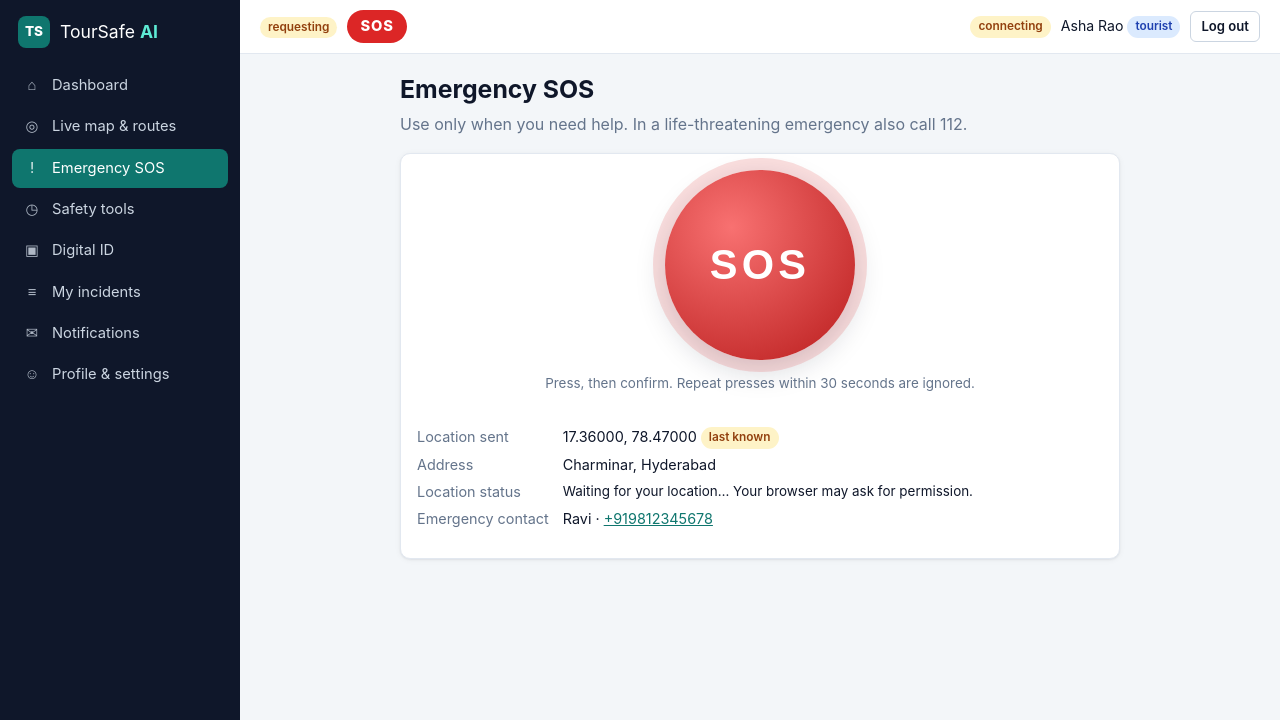
it: SOS › reports duplicate presses honestly
Click the button "SOS". click: (760, 264)
box: [665,170,855,360]
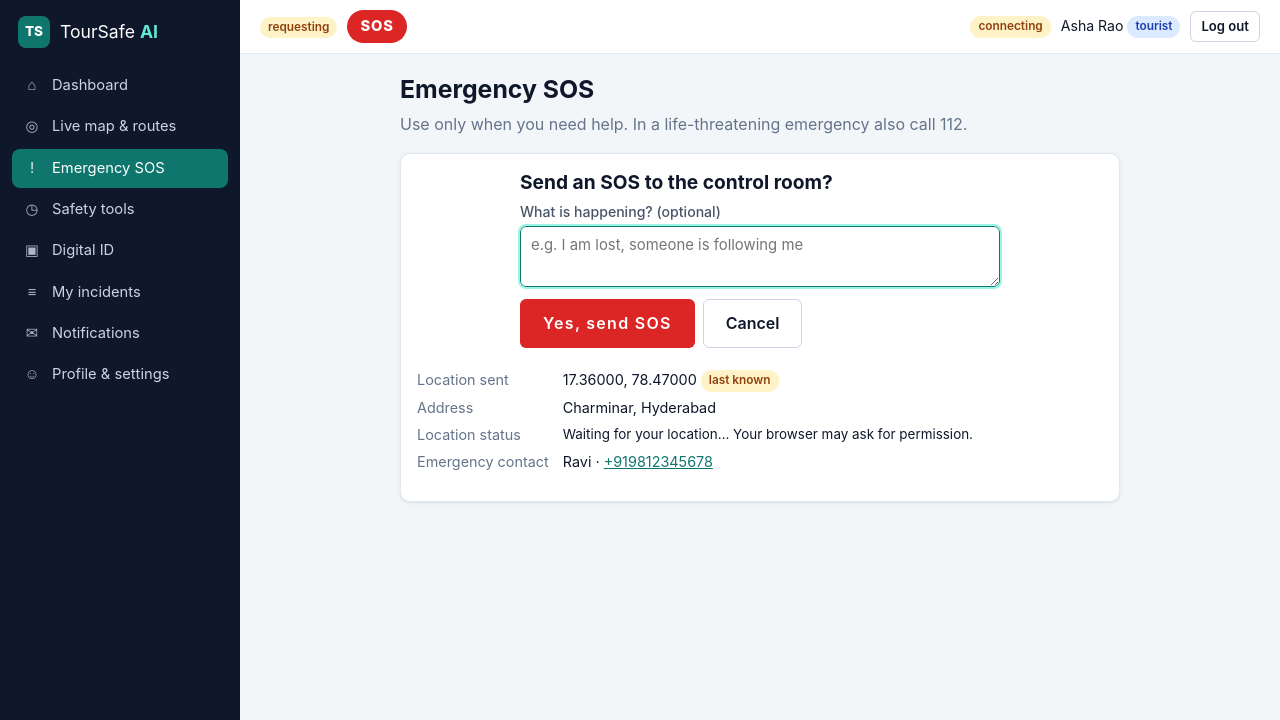
Click the button "Yes, send SOS". click: (607, 324)
box: [520,299,695,348]
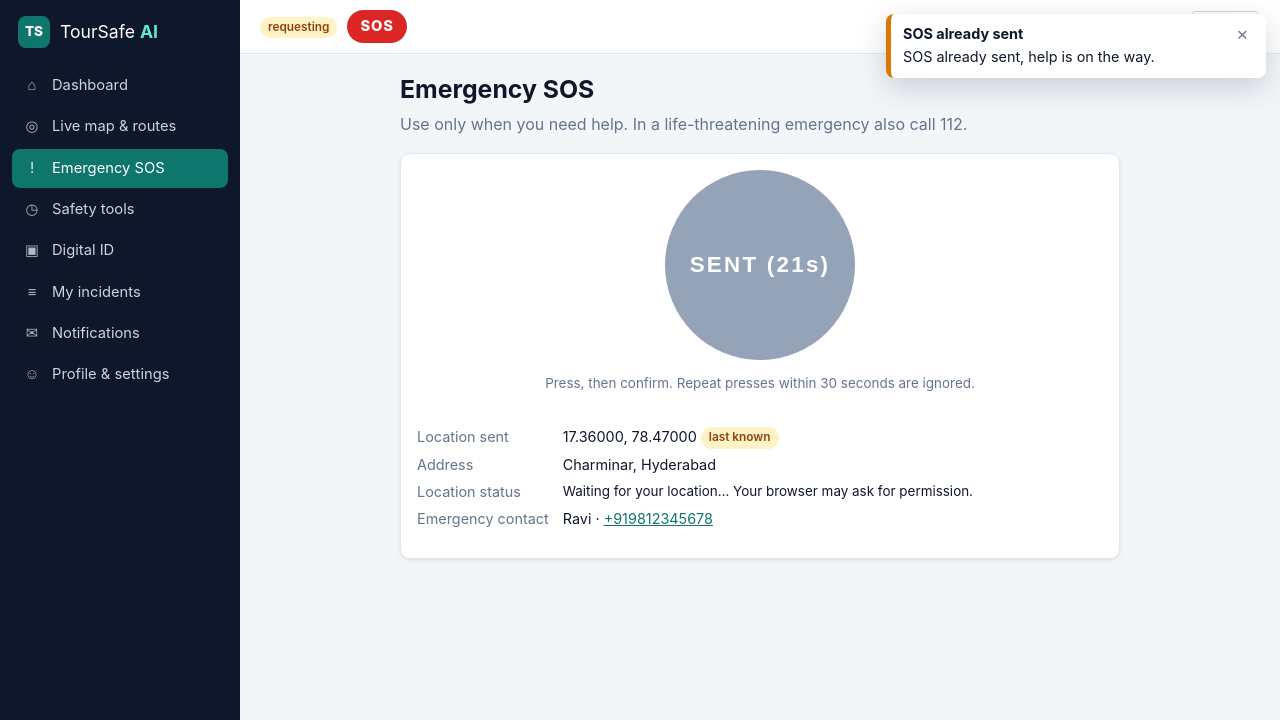
Check: the text "SOS already sent, help is on the way." is shown, box [903,47,1155,68]
